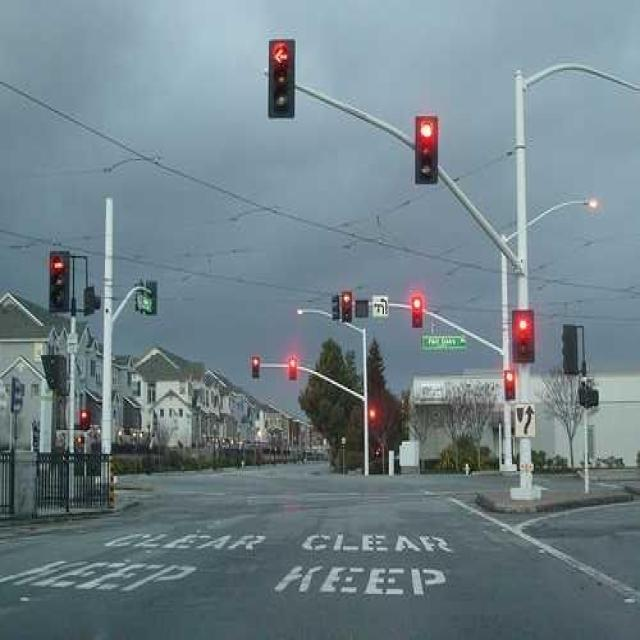Traffic Light -Red-: (268, 34, 296, 120), (414, 113, 438, 186), (46, 249, 71, 315), (513, 311, 538, 369), (410, 294, 424, 330), (340, 292, 354, 327), (504, 372, 518, 404), (366, 403, 376, 436), (287, 357, 298, 384), (251, 355, 260, 379)
